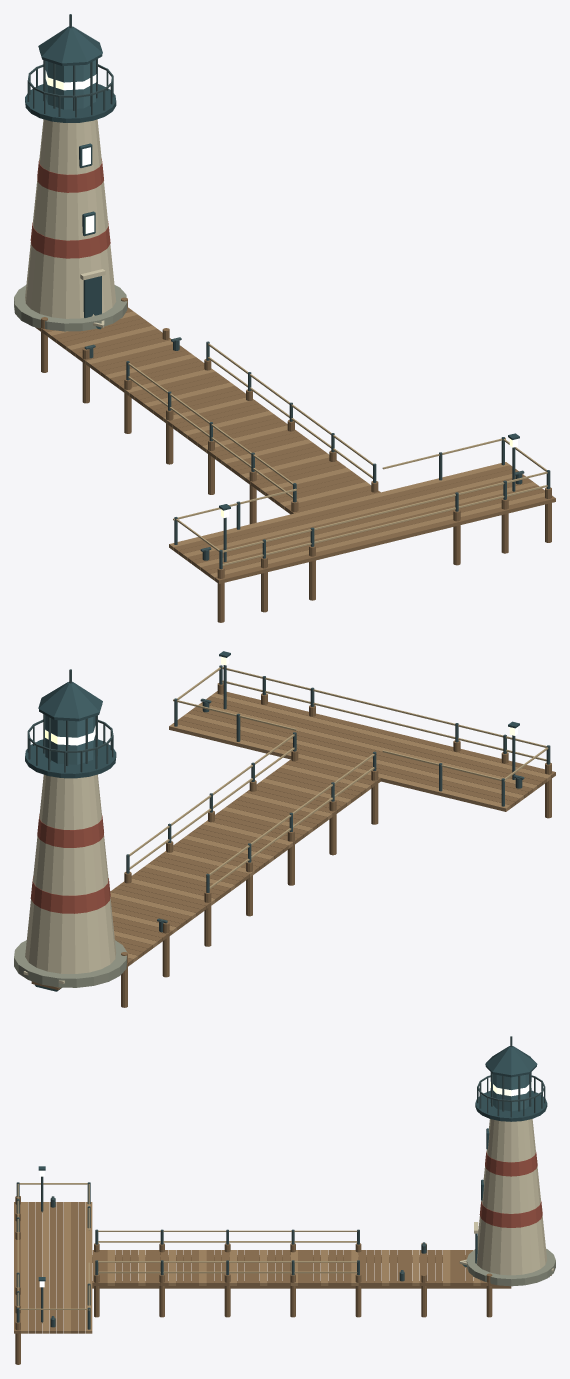
Rendered from harbor-kit.glb.
3 renders of one model, top to bottom at view 1: azimuth 30°, elevation 25°; view 2: azimuth 150°, elevation 25°; view 3: azimuth 270°, elevation 25°, orthographic. The views are drawn at different scales.
Parts seen in each view (by area): view 1: batch-pier-wood, batch-pier-wood_light, batch-lighthouse-ivory, batch-pier-rope, batch-lighthouse-roof, batch-lighthouse-red, batch-pier-iron, batch-lighthouse-stone, batch-lighthouse-glass, batch-lighthouse-iron, batch-lighthouse-lamp; view 2: batch-pier-wood, batch-pier-wood_light, batch-lighthouse-ivory, batch-pier-rope, batch-lighthouse-roof, batch-lighthouse-red, batch-pier-iron, batch-lighthouse-stone, batch-lighthouse-glass, batch-lighthouse-iron; view 3: batch-pier-wood, batch-lighthouse-ivory, batch-pier-wood_light, batch-pier-rope, batch-lighthouse-roof, batch-lighthouse-red, batch-pier-iron, batch-lighthouse-stone, batch-lighthouse-iron, batch-lighthouse-glass.
Part boxes in pixels (box(x1,y1,x2,y2)): batch-pier-wood: box(35, 297, 555, 622); batch-pier-wood_light: box(46, 311, 544, 580); batch-lighthouse-ivory: box(25, 119, 116, 318); batch-pier-rope: box(128, 343, 547, 565); batch-lighthouse-roof: box(25, 26, 116, 317); batch-lighthouse-red: box(30, 159, 110, 258); batch-pier-iron: box(84, 337, 550, 569); batch-lighthouse-stone: box(14, 285, 127, 331); batch-lighthouse-glass: box(45, 60, 95, 109); batch-lighthouse-iron: box(27, 14, 113, 117); batch-lighthouse-lamp: box(45, 70, 96, 233); batch-pier-wood: box(110, 683, 555, 1007); batch-pier-wood_light: box(110, 693, 551, 962); batch-lighthouse-ivory: box(25, 774, 116, 973); batch-pier-rope: box(129, 667, 548, 888); batch-lighthouse-roof: box(25, 681, 116, 778); batch-lighthouse-red: box(30, 814, 110, 913); batch-pier-iron: box(126, 665, 550, 932); batch-lighthouse-stone: box(14, 940, 127, 987); batch-lighthouse-glass: box(45, 715, 95, 764); batch-lighthouse-iron: box(27, 669, 113, 772); batch-pier-wood: box(14, 1196, 511, 1364); batch-lighthouse-ivory: box(474, 1119, 547, 1275); batch-pier-wood_light: box(21, 1202, 480, 1333); batch-pier-rope: box(17, 1183, 357, 1310); batch-lighthouse-roof: box(475, 1046, 547, 1263); batch-lighthouse-red: box(479, 1151, 542, 1227); batch-pier-iron: box(16, 1176, 426, 1329); batch-lighthouse-stone: box(466, 1248, 555, 1286); batch-lighthouse-iron: box(477, 1036, 545, 1117); batch-lighthouse-glass: box(490, 1072, 531, 1111).
Bounding box in the file's own units: 14 × 13.38 × 24.84.
